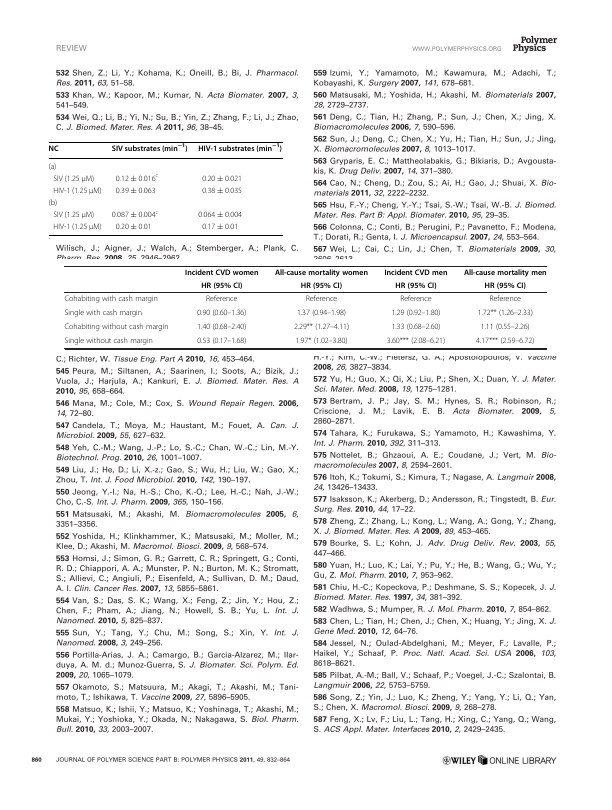borderless: (63, 264, 546, 348), (47, 140, 283, 235)
cell: (63, 322, 169, 332), (63, 294, 159, 304), (64, 336, 154, 346), (197, 143, 283, 153), (274, 268, 369, 277), (63, 308, 143, 318), (111, 143, 189, 153), (463, 268, 547, 277), (184, 268, 259, 277), (386, 336, 446, 346), (475, 336, 535, 346), (383, 268, 448, 277), (477, 308, 534, 318), (293, 322, 350, 332), (294, 336, 348, 346), (111, 209, 159, 220), (196, 308, 247, 318), (296, 308, 347, 318), (390, 308, 441, 318), (196, 322, 247, 332), (390, 322, 441, 332), (480, 322, 531, 332), (196, 336, 247, 346), (52, 186, 103, 196), (115, 173, 159, 184), (52, 223, 103, 232), (200, 281, 243, 291), (300, 281, 343, 291), (394, 281, 437, 291), (484, 281, 527, 291), (52, 174, 95, 184), (201, 174, 243, 184), (115, 186, 157, 196), (201, 186, 243, 196), (197, 211, 243, 220), (52, 211, 95, 220), (115, 223, 153, 232), (201, 223, 239, 232), (399, 294, 433, 304), (488, 294, 522, 304), (205, 294, 238, 304), (305, 294, 338, 304), (48, 144, 60, 153), (48, 162, 57, 172), (48, 199, 58, 208)
